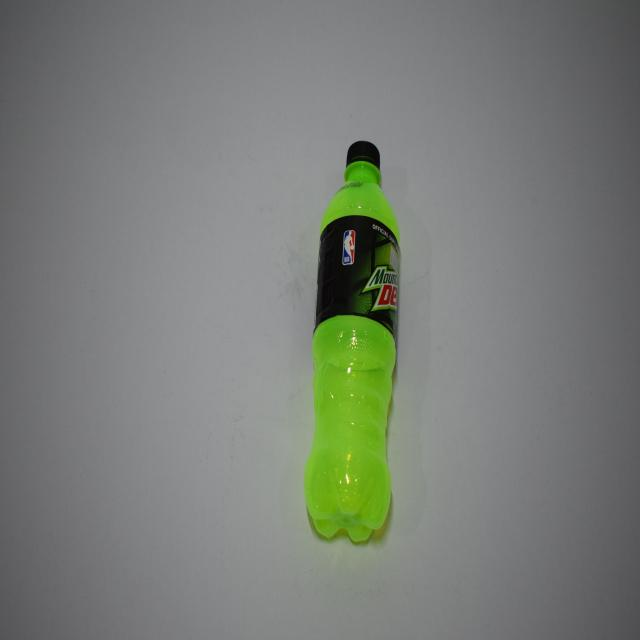bottle: (288, 129, 410, 562)
